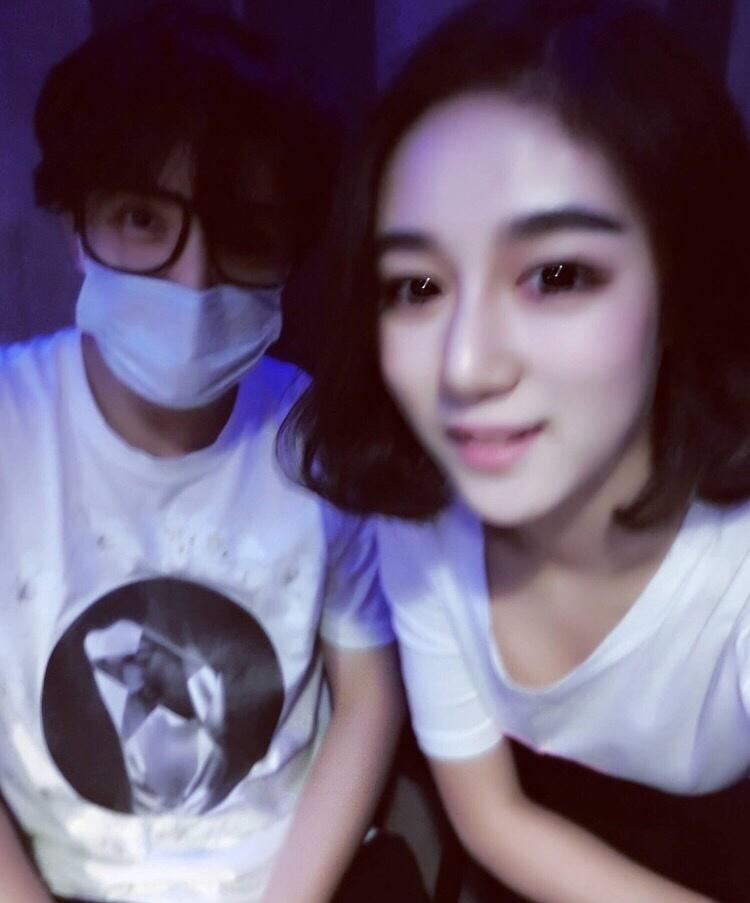NONE: (386, 209, 653, 515)
WRONG: (79, 169, 313, 403)
